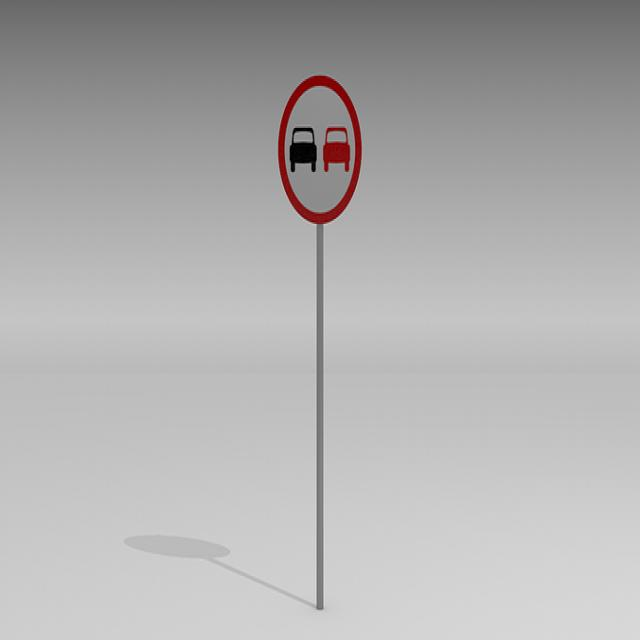no overtaking: (276, 69, 364, 230)
